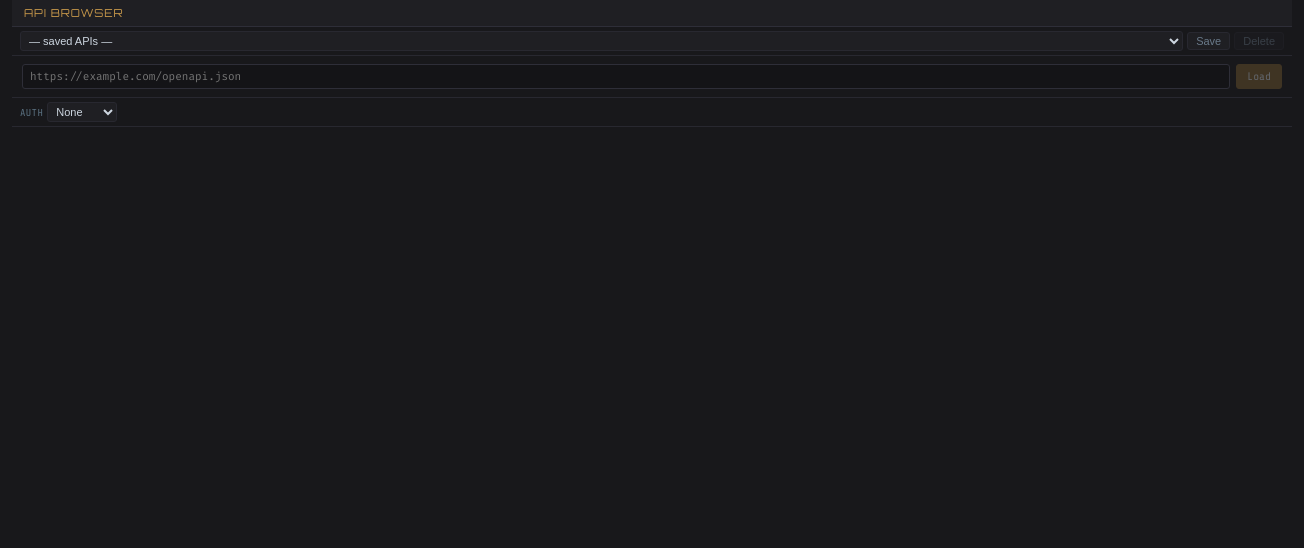
it: Try-it form › shows query param input after opening Try it
This screenshot has width=1304, height=548.
Type "https://api.example.com/openapi.json" into the field with placeholder "https://example.com/openapi.json".
click(626, 76); type("https://api.example.com/openapi.json")  # box [22, 64, 1230, 89]
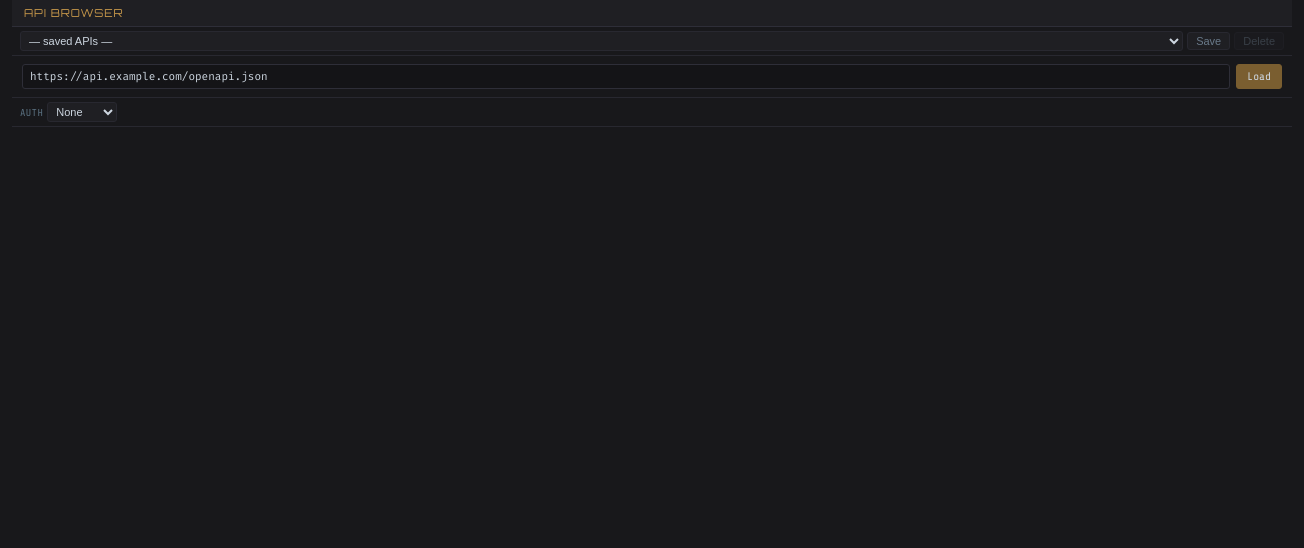
Click the button "Load".
click(1259, 76)  # box [1236, 64, 1282, 89]
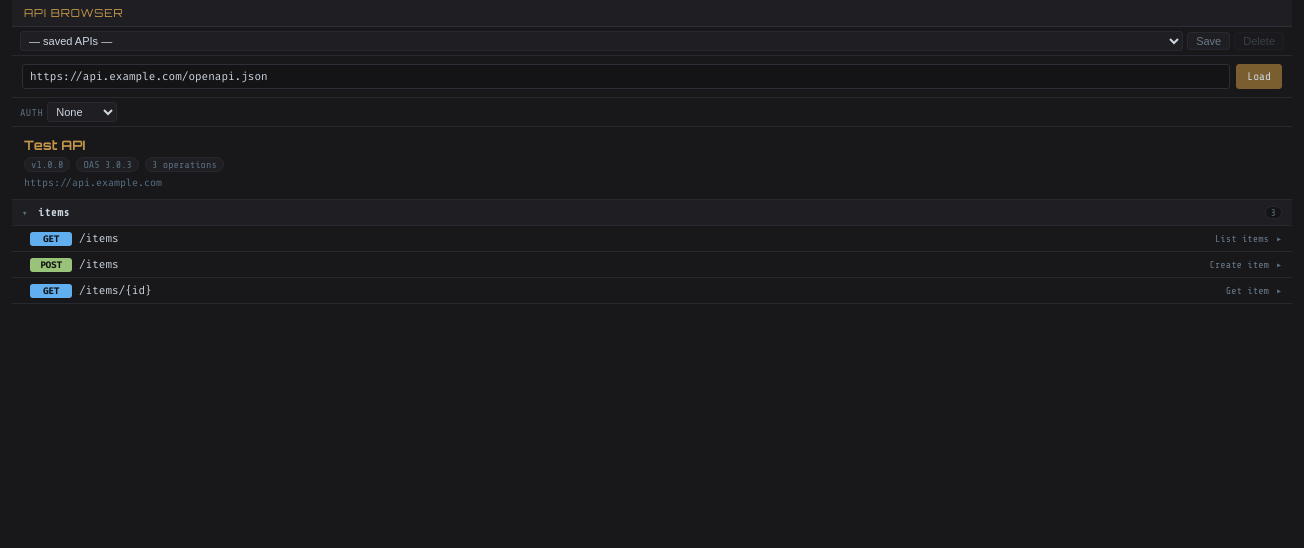
expect the text "Test API" is shown: met, box [24, 137, 85, 153]
Click the text "List items".
click(1242, 238)  # box [1215, 233, 1269, 244]
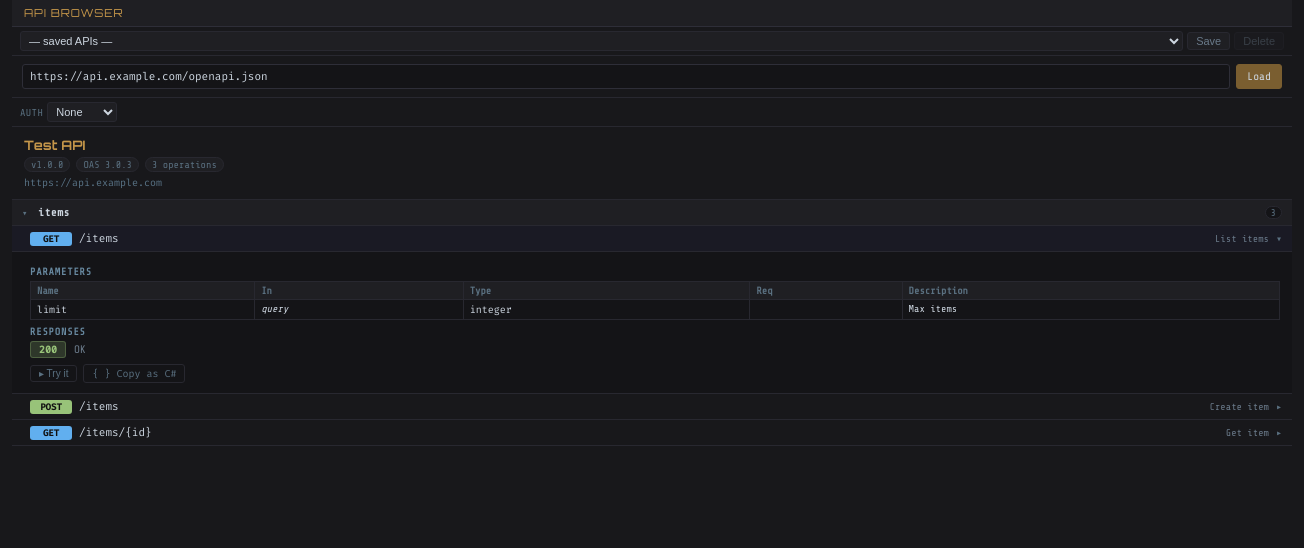
Click the button "▸ Try it".
click(54, 374)  # box [30, 365, 78, 382]
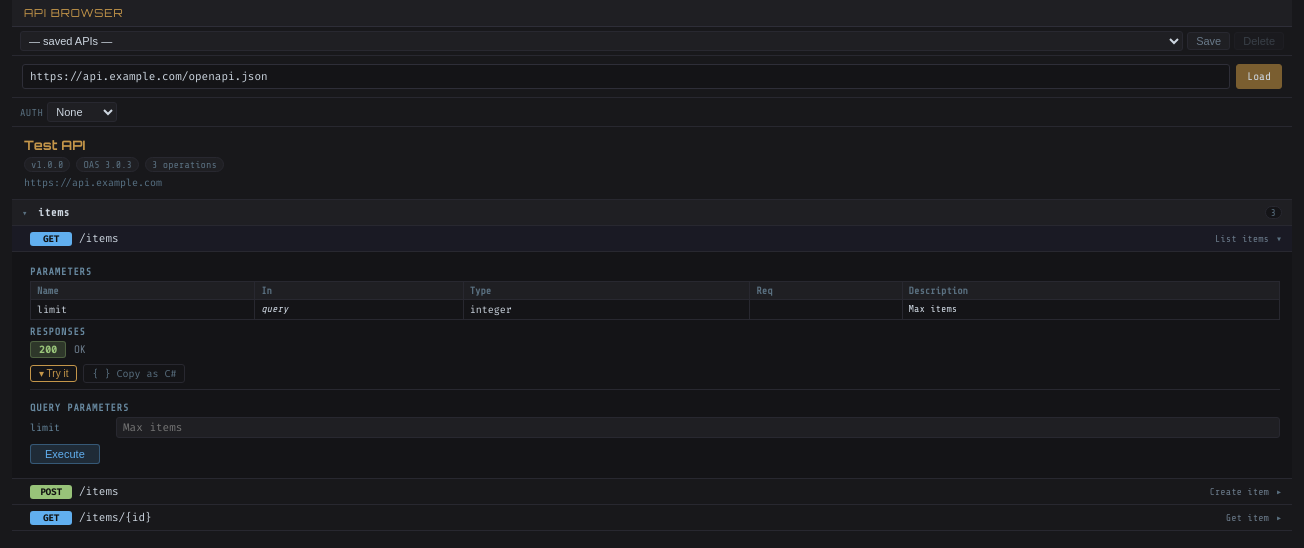
expect the button "Execute" is shown: met, box [30, 444, 100, 464]
